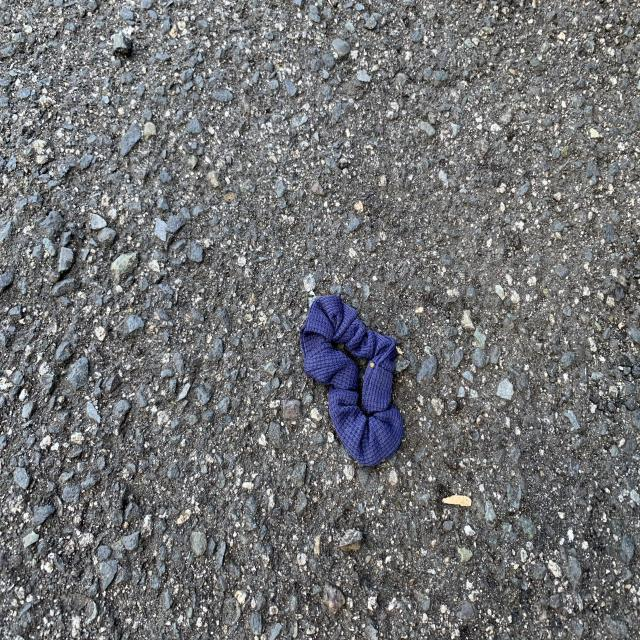litter: (296, 296, 401, 463)
